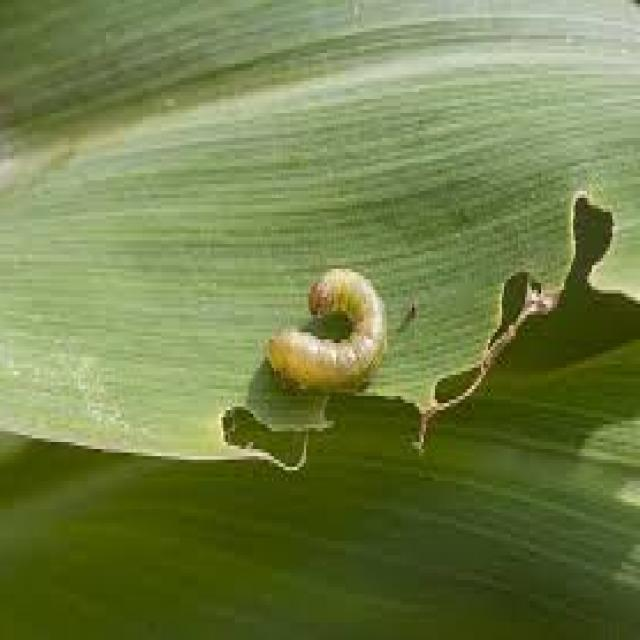armyworm: (263, 266, 387, 398)
